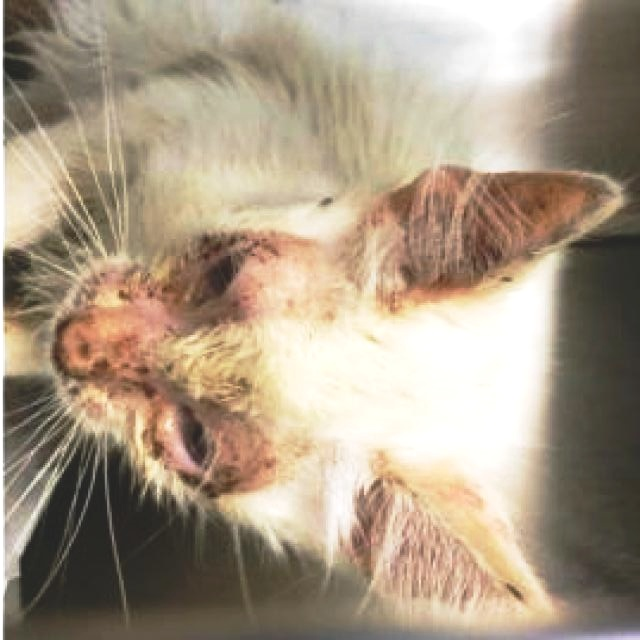ringworm: (218, 245, 300, 330), (88, 323, 165, 399), (215, 420, 288, 500), (130, 266, 202, 308)
